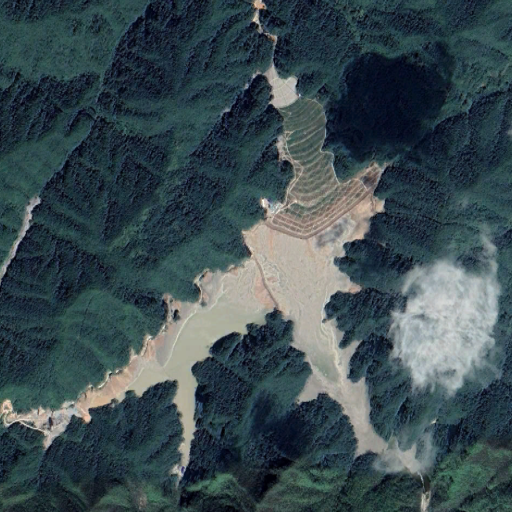tp: (98, 80, 389, 451)
